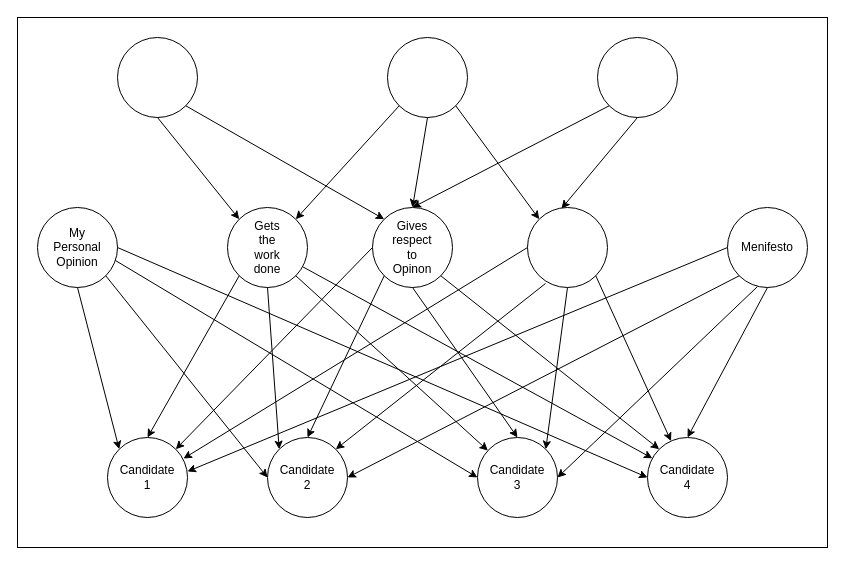
Some shapes in this 845 by 565 pixel diagram are drawn without their labels. The shapes that lost their labels are listed below. From the top down, each one's box as (x1, y1, x2, y2) in pixels, then its label:
(116, 36, 198, 118): Popularity
(386, 36, 468, 118): Ability
(596, 36, 678, 118): Support
(526, 206, 608, 288): Previous Works done enguaged
